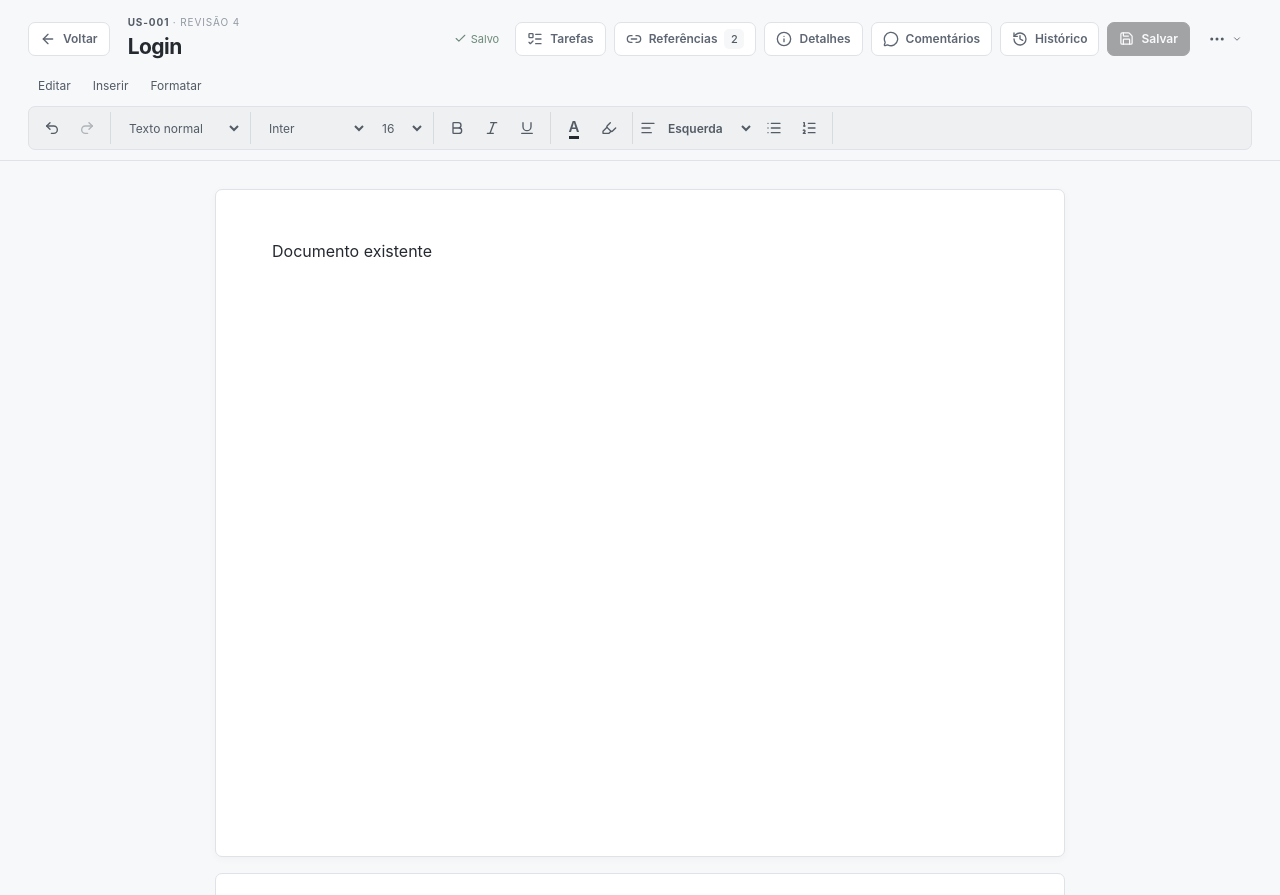
Test case: requirement document workflow › explains repeated stories from old multiple relations in the editor panel
What coordinates should you click on to do the following:
click the button "Referências 2"
I would click on:
 (685, 38)
Its box is [614,22,756,56].
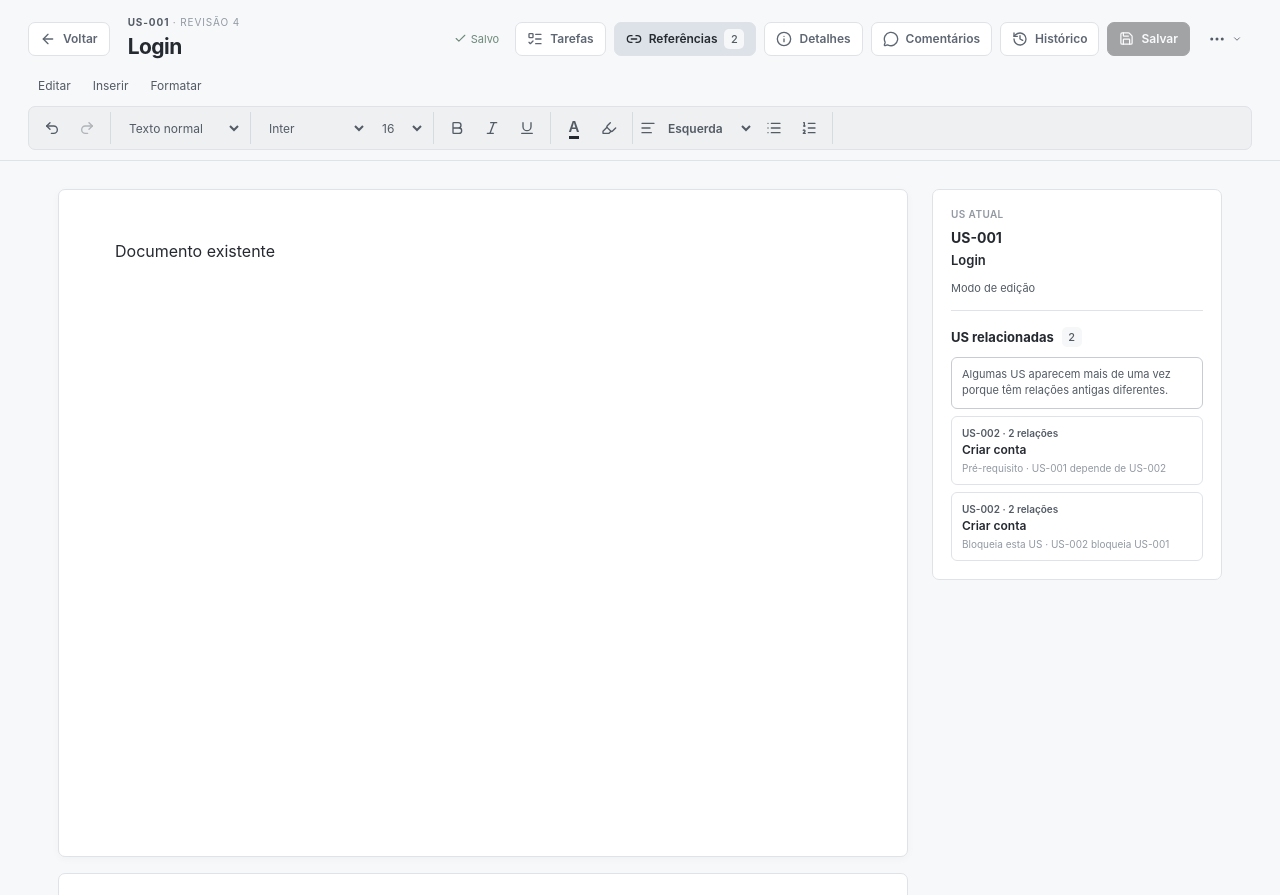
Expected: the number of buttons with class "related-story-link" is 2, [951,416,1203,485]; [951,492,1203,561]
Expected: the message with class "related-stories-legacy" shows "relações antigas diferentes", [962,367,1171,397]
